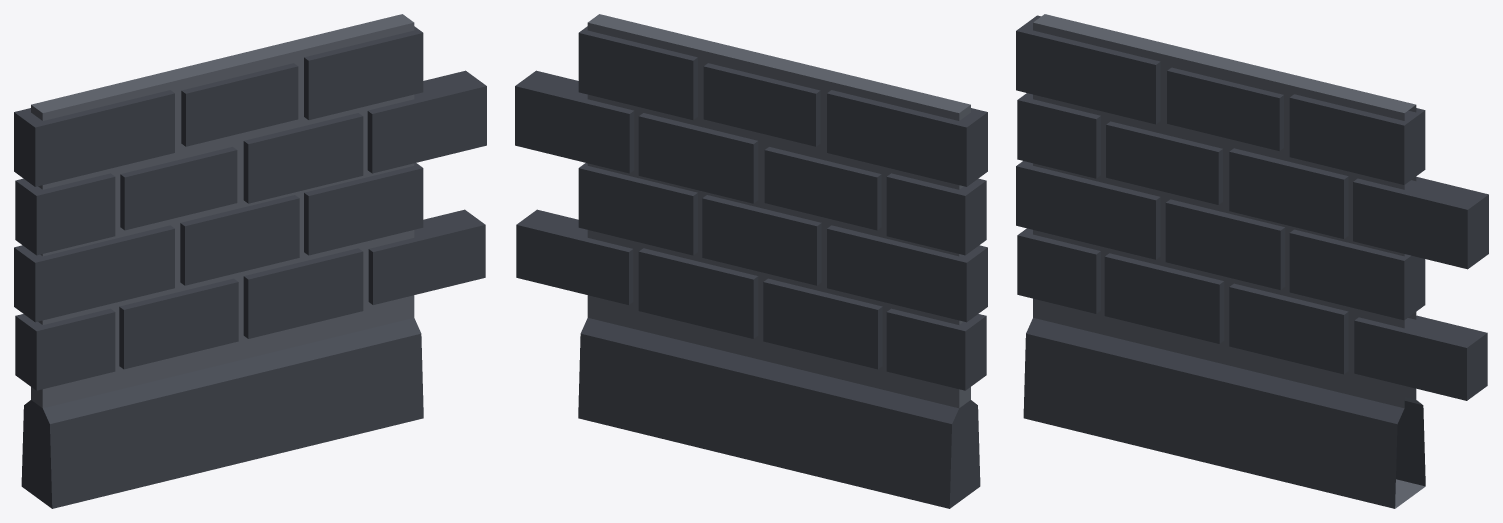
File: Wall_end_left.fbx
The picture shows the model from 3 angles, left to right: view 1: azimuth 30°, elevation 25°; view 2: azimuth 150°, elevation 25°; view 3: azimuth 330°, elevation 25°; orthographic projection.
Visible parts, largest first — view 1: Wall_end_left; view 2: Wall_end_left; view 3: Wall_end_left.
Part boxes in pixels (x1=…): Wall_end_left: x1=14, y1=14, x2=486, y2=508; Wall_end_left: x1=515, y1=14, x2=987, y2=508; Wall_end_left: x1=1016, y1=14, x2=1488, y2=508.
Size of the model in its own units: 243 by 200 by 28.64.
